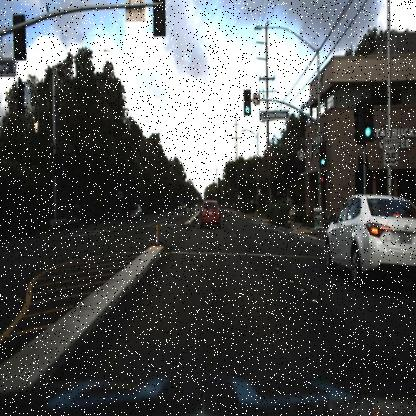car: (323, 186, 416, 291), (195, 194, 223, 230), (124, 199, 143, 223)
trafficLight-Green: (243, 88, 254, 116), (318, 139, 326, 167), (320, 141, 327, 170), (242, 100, 252, 119)
